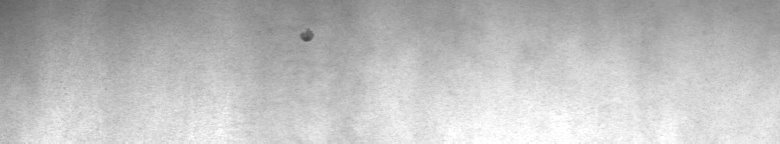fi: (293, 24, 319, 48)
